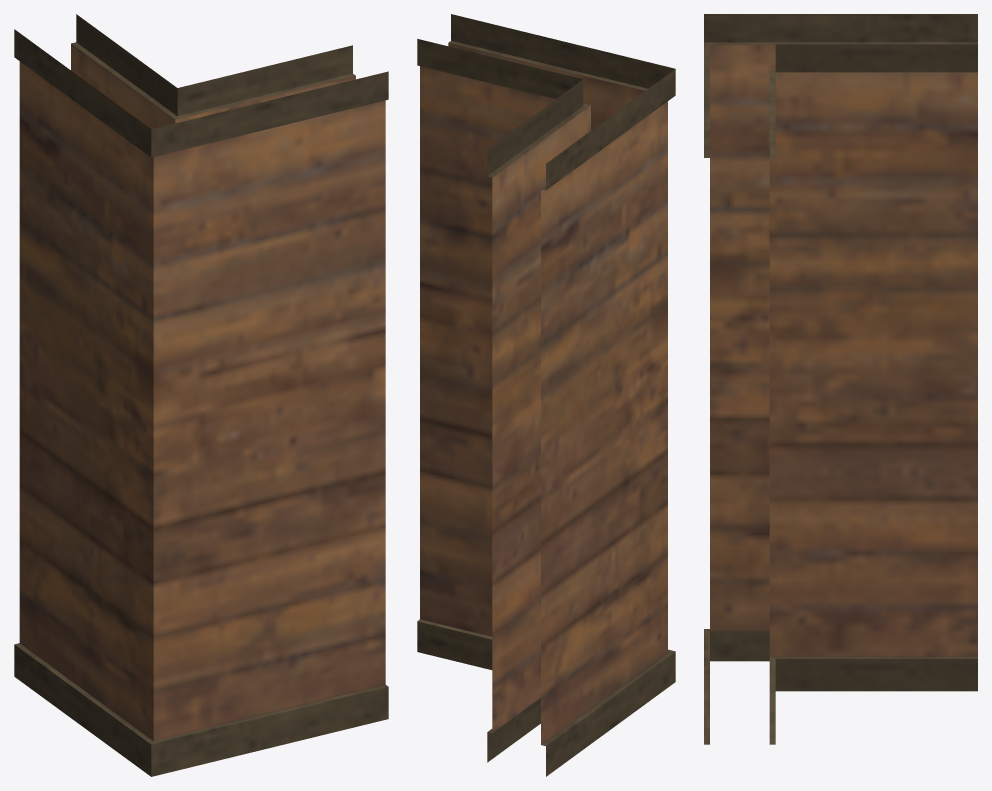
File: MS_Wallpiece_L.fbx
3 renders of one model, left to right at view 1: azimuth 30°, elevation 25°; view 2: azimuth 150°, elevation 25°; view 3: azimuth 270°, elevation 25°, orthographic. The views are drawn at different scales.
Visible parts, largest first — view 1: Cube; view 2: Cube; view 3: Cube.
Part boxes in pixels (left/top/right/bottom): Cube: left=14, top=14, right=388, bottom=776; Cube: left=417, top=14, right=675, bottom=776; Cube: left=704, top=14, right=977, bottom=744.
Size of the model in its own units: 230 by 600 by 230.
